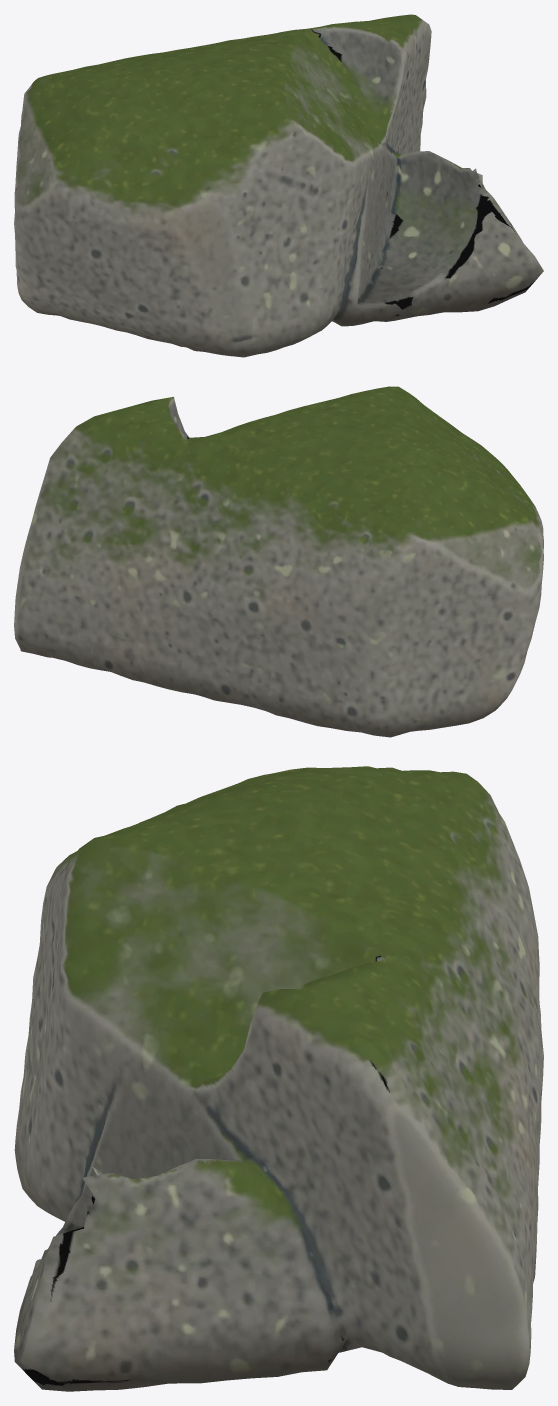
The model's file is rock_edge_a.glb.
3 renders of one model, top to bottom at view 1: azimuth 30°, elevation 25°; view 2: azimuth 150°, elevation 25°; view 3: azimuth 270°, elevation 25°, orthographic. The views are drawn at different scales.
Visible parts, largest first — view 1: rock_edge_a; view 2: rock_edge_a; view 3: rock_edge_a.
Boxes of the visible parts, bbox=[...] form: rock_edge_a: bbox=[14, 14, 543, 357]; rock_edge_a: bbox=[14, 386, 543, 737]; rock_edge_a: bbox=[14, 766, 543, 1391].
Bounding box in the file's own units: 1.72 × 0.8807 × 1.11.
Materials: 1 (1 with a texture image).
